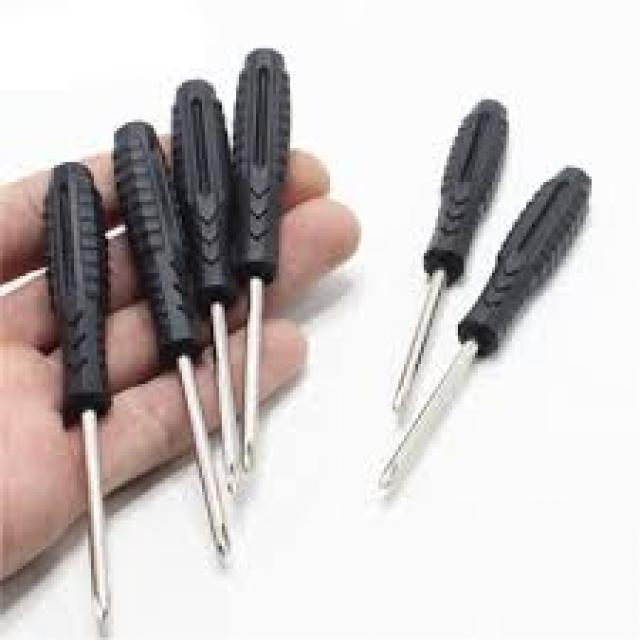screwdriver: (378, 166, 594, 491), (110, 115, 234, 570), (388, 87, 514, 420), (42, 160, 122, 636), (165, 76, 245, 500), (227, 45, 296, 478)
